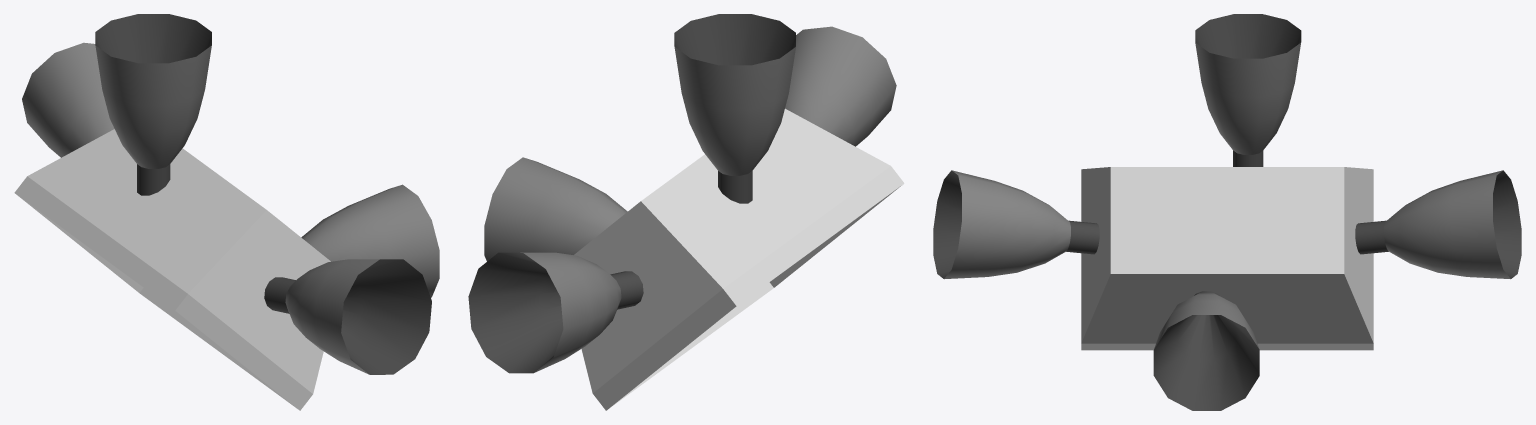
Rendered from ph_lander_rcs45.sturdy.gltf.
3 renders of one model, left to right at view 1: azimuth 30°, elevation 25°; view 2: azimuth 150°, elevation 25°; view 3: azimuth 270°, elevation 25°, orthographic. The views are drawn at different scales.
Visible parts, largest first — view 1: rcs45d; view 2: rcs45d; view 3: rcs45d.
Part boxes in pixels (x1=…): rcs45d: x1=14, y1=14, x2=439, y2=410; rcs45d: x1=468, y1=14, x2=904, y2=410; rcs45d: x1=933, y1=14, x2=1521, y2=410.
Bounding box in the file's own units: 0.3513 × 0.3513 × 0.6466.
1 material, 1 textured.
